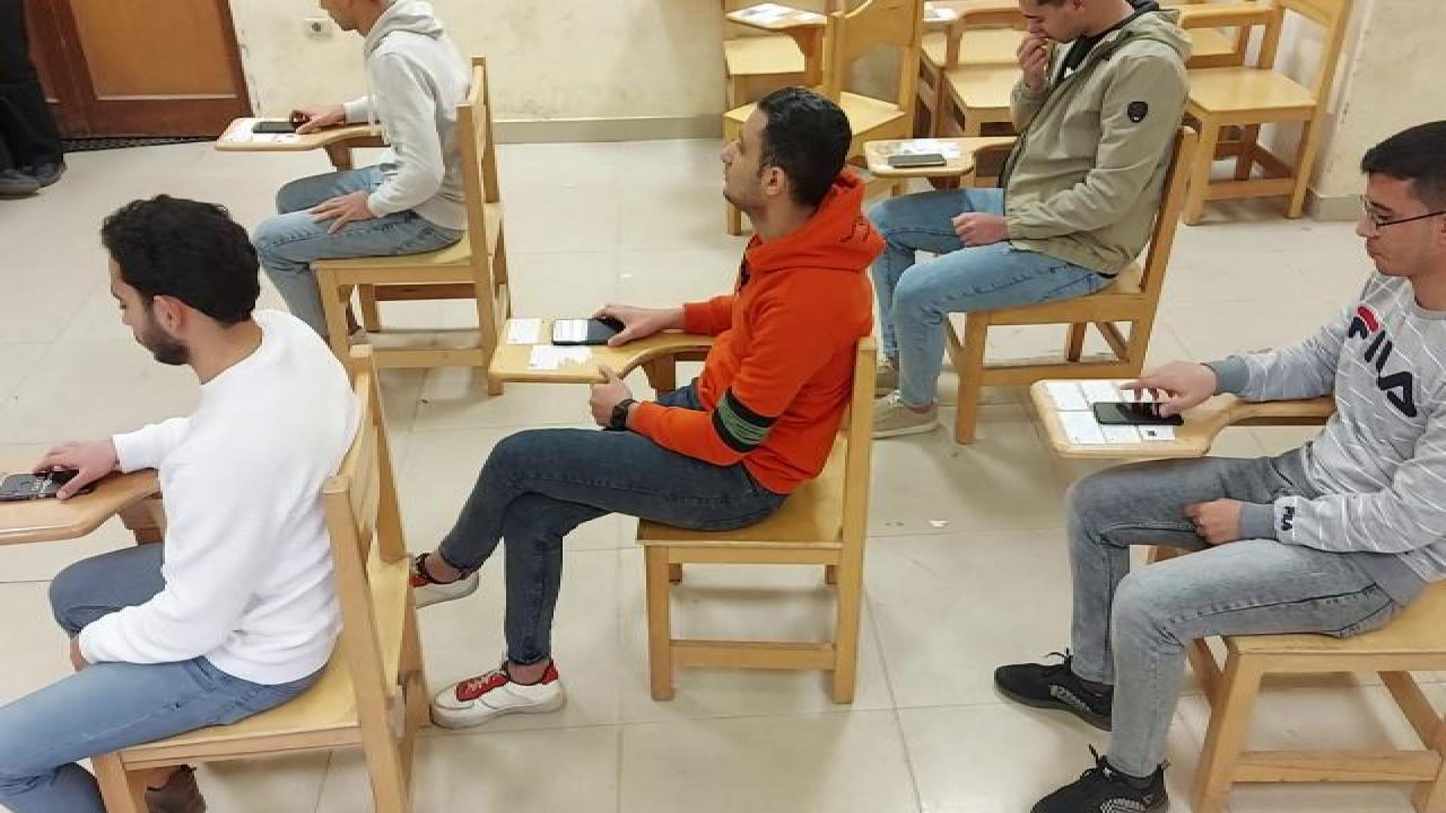phone: (1091, 402, 1179, 429), (550, 316, 627, 343), (0, 473, 90, 494), (887, 151, 948, 169), (254, 120, 311, 133)
